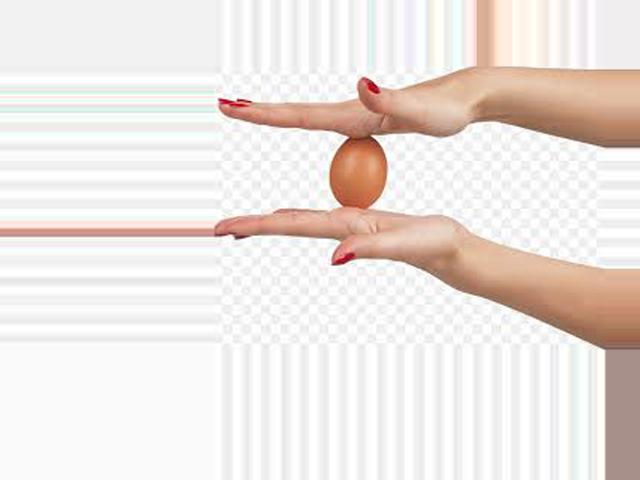egg: (331, 137, 387, 209)
